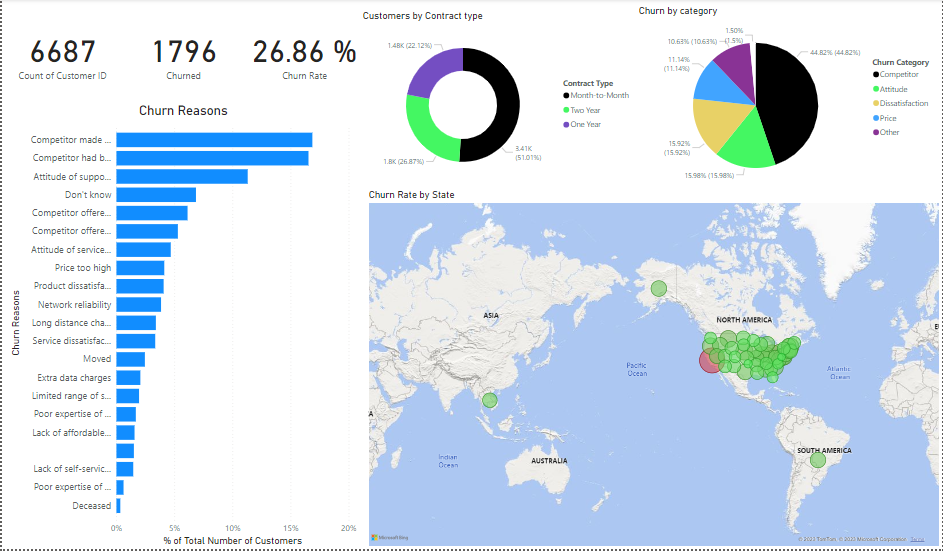

Layout of this report page (visuals, bound fields, positions):
{"tool":"powerbi","page":{"name":"Overview page","canvas":[1640,960],"ordinal":5},"visuals":[{"type":"card","fields":{"Values":["Count(Databel - Data.Customer ID)"]},"box":[0,33.5,211.6,123.4],"z":0},{"type":"card","fields":{"Values":["Databel - Data.Churn Rate"]},"box":[423.2,33.5,211.6,123.4],"z":1000},{"type":"card","fields":{"Values":["Sum(Databel - Data.Churned)"]},"box":[211.6,33.5,211.6,123.4],"z":2000},{"type":"clusteredBarChart","title":"Churn Reasons","fields":{"Category":["Databel - Data.Churn Reason"],"Y":["CountNonNull(Databel - Data.Number of Customers in Group)"]},"box":[8.8,181.6,615.4,777.7],"z":3000},{"type":"pieChart","title":"Churn by category","fields":{"Category":["Databel - Data.Churn Category"],"Y":["CountNonNull(Databel - Data.Churn Label)"]},"box":[1107.4,10.6,532.6,331.5],"z":4000},{"type":"donutChart","title":"Customers by Contract type","fields":{"Y":["Count(Databel - Data.Customer ID)"],"Category":["Databel - Data.Contract Type"]},"box":[624.3,19.4,483.2,312.1],"z":5000},{"type":"map","fields":{"Category":["Databel - Data.State"],"Size":["Databel - Data.Churn Rate"]},"box":[634.8,331.5,1005.2,627.8],"z":6000}]}

Visuals, with their boxes in screenshot pixels (x1, y1, x2, y2), scaled from the page's 1640x960 canvas onto the 943x553 screenshot:
card - Count(Databel - Data.Customer ID): rect(0, 19, 122, 90)
card - Databel - Data.Churn Rate: rect(243, 19, 365, 90)
card - Sum(Databel - Data.Churned): rect(122, 19, 243, 90)
"Churn Reasons" clusteredBarChart: rect(5, 105, 359, 552)
"Churn by category" pieChart: rect(637, 6, 942, 197)
"Customers by Contract type" donutChart: rect(359, 11, 637, 191)
map - Databel - Data.State x Databel - Data.Churn Rate: rect(365, 191, 942, 552)
